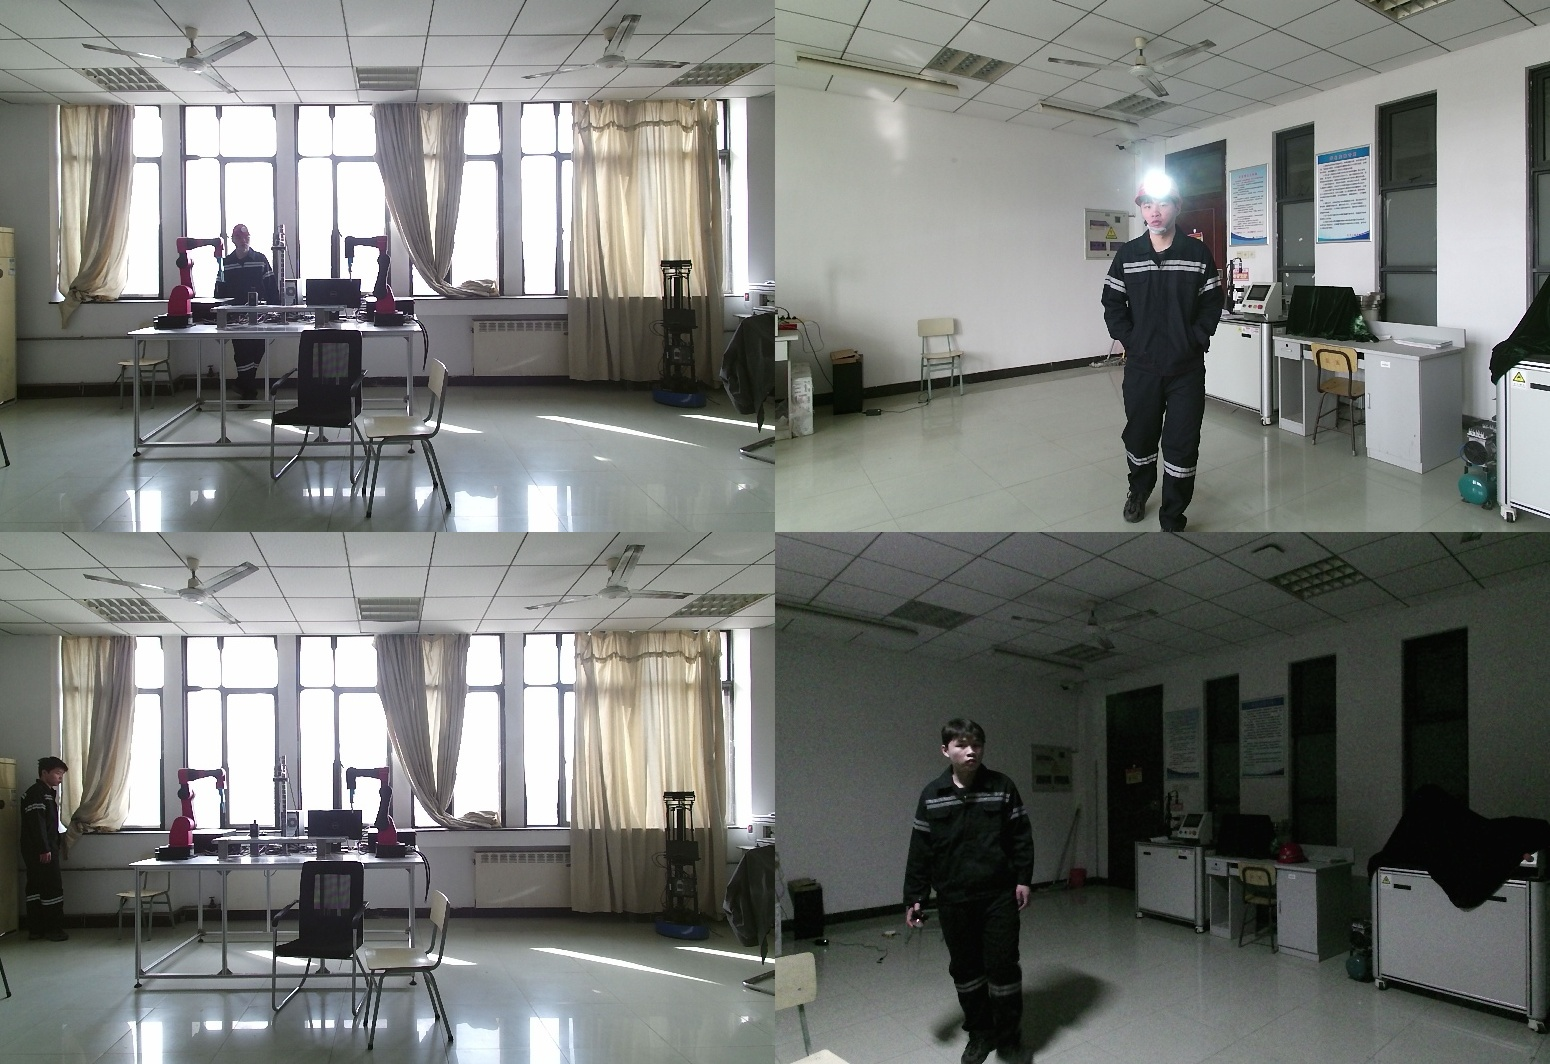person: (904, 719, 1043, 1064), (1096, 175, 1230, 532), (213, 224, 279, 410), (11, 760, 69, 940)
